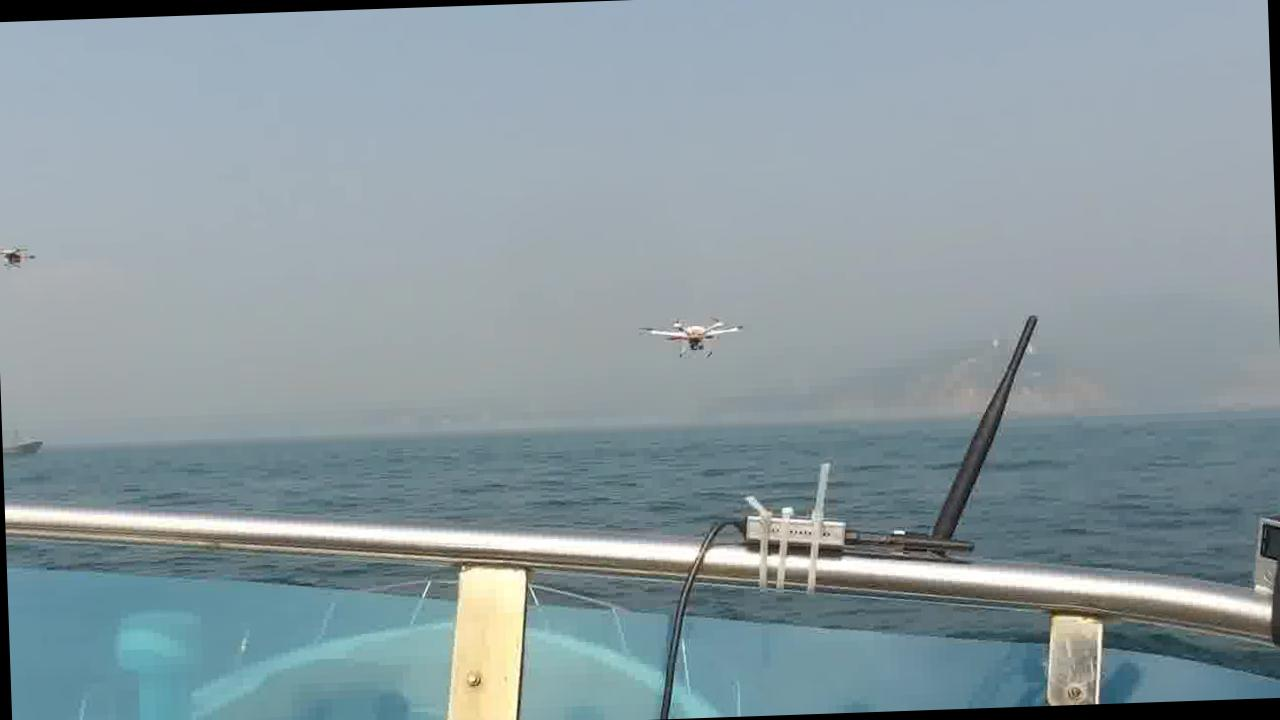drone: (638, 311, 748, 364)
